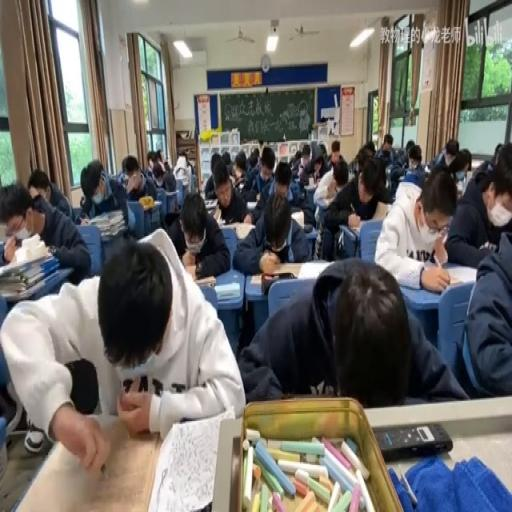calculator: (420, 263, 477, 286), (250, 263, 300, 286), (218, 219, 254, 240), (298, 260, 335, 280), (214, 282, 240, 300), (193, 273, 216, 286), (139, 196, 162, 209), (290, 209, 304, 229), (454, 173, 466, 195), (0, 220, 10, 243), (314, 194, 330, 208), (203, 196, 218, 209), (212, 205, 222, 222), (231, 174, 243, 186), (246, 199, 258, 209), (78, 216, 89, 225), (306, 176, 314, 188), (423, 165, 430, 173), (397, 174, 404, 179)
paper: (2, 228, 240, 480), (239, 256, 464, 407), (2, 176, 88, 290), (445, 145, 512, 268), (322, 154, 390, 262), (233, 186, 310, 272), (78, 159, 131, 242), (204, 155, 249, 228), (122, 154, 159, 200), (402, 142, 428, 189), (427, 138, 462, 172), (304, 144, 330, 182), (473, 146, 498, 178), (27, 172, 50, 203), (272, 158, 291, 195), (374, 132, 394, 162), (290, 175, 306, 205), (328, 138, 344, 166), (260, 145, 275, 174), (158, 169, 176, 192), (182, 150, 194, 180), (458, 150, 470, 176), (156, 149, 170, 171), (333, 165, 346, 186), (234, 150, 245, 174), (290, 148, 300, 168), (209, 152, 221, 168), (114, 170, 126, 186), (248, 148, 258, 166), (146, 158, 156, 175), (364, 141, 375, 156), (221, 149, 231, 165), (405, 139, 414, 155), (300, 145, 309, 161), (494, 141, 502, 158)
person: (374, 422, 452, 461)
